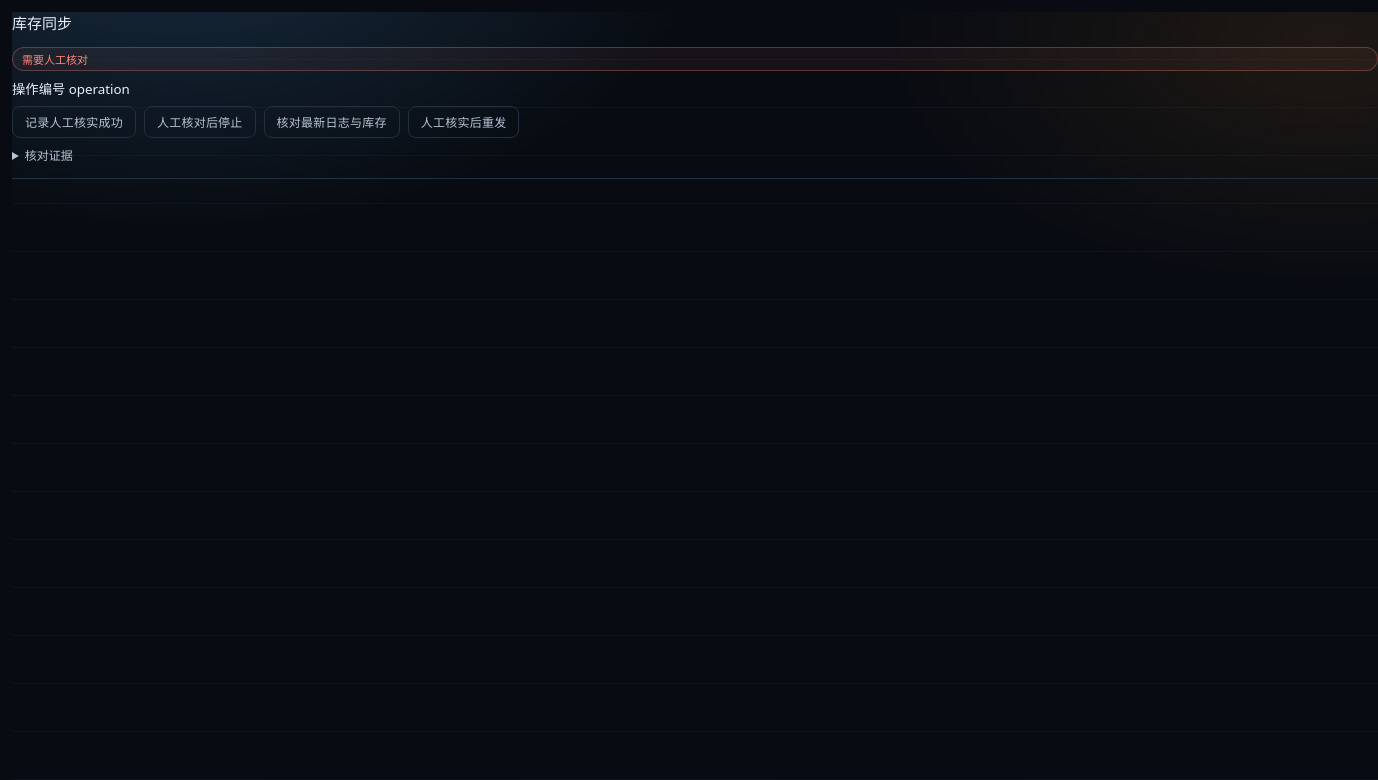
Test: 核对只读取，显示错误后仍可重试
Click the button "核对最新日志与库存": (332, 122) left=264, top=106, right=400, bottom=138
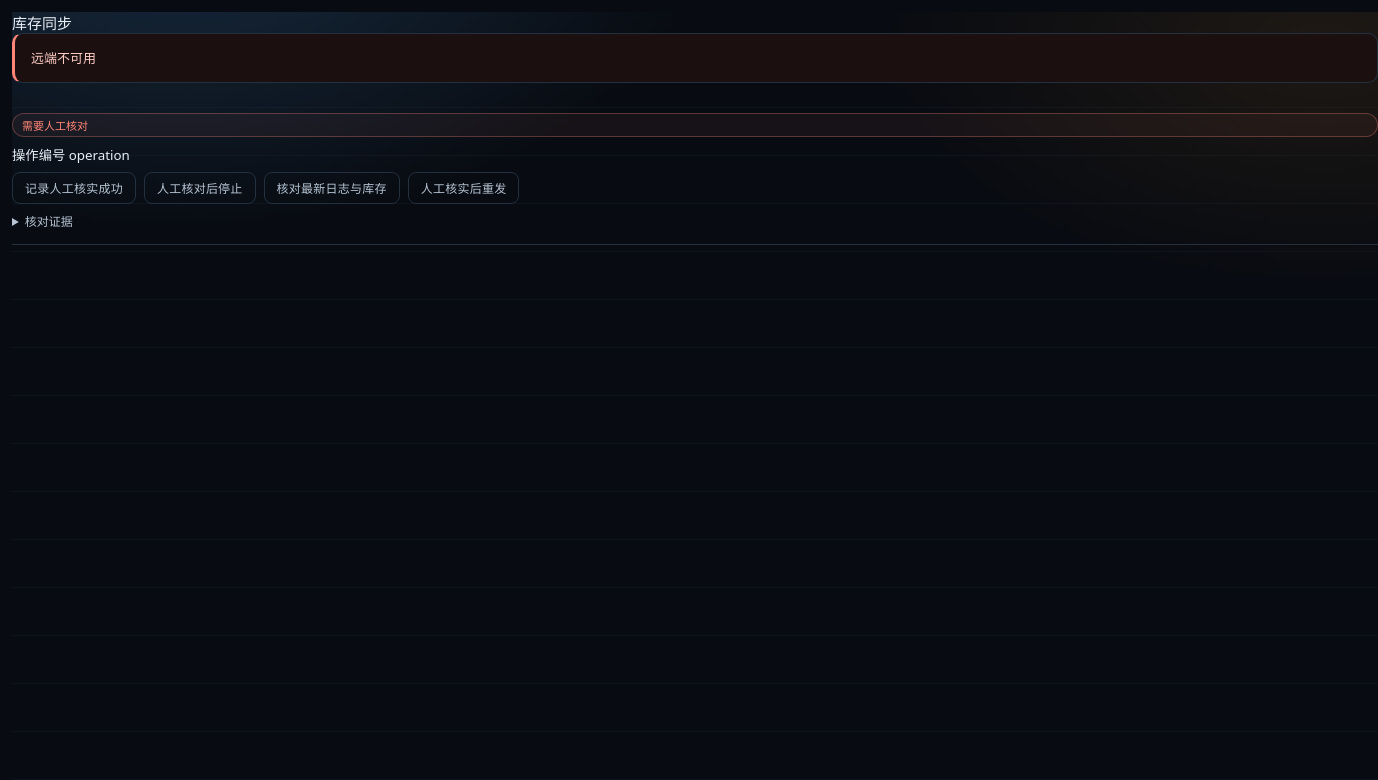
Now the text "远端不可用" is shown, box left=31, top=47, right=96, bottom=69
